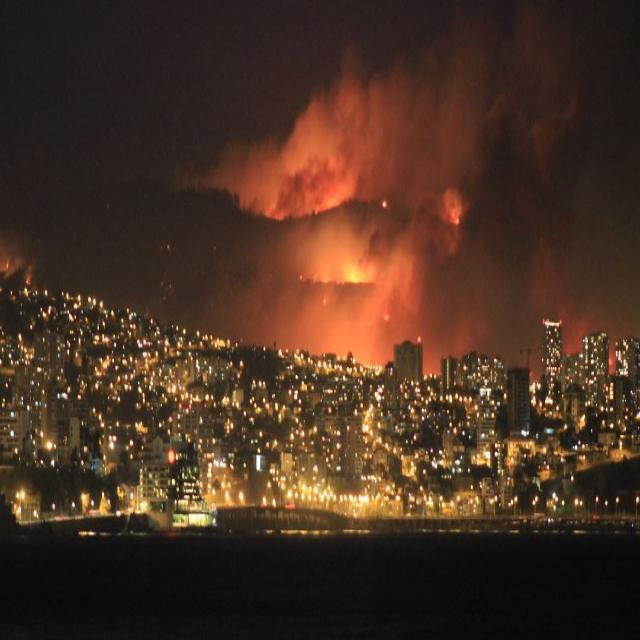Fire: (448, 205, 461, 228), (324, 192, 340, 210), (348, 267, 361, 285), (0, 253, 10, 272), (320, 270, 330, 285), (25, 268, 32, 286), (382, 312, 390, 324), (312, 275, 320, 285), (382, 200, 389, 210), (322, 298, 327, 305), (300, 274, 303, 282)
Smoke: (486, 0, 640, 317), (287, 38, 489, 212), (266, 220, 489, 348), (217, 138, 286, 218)
